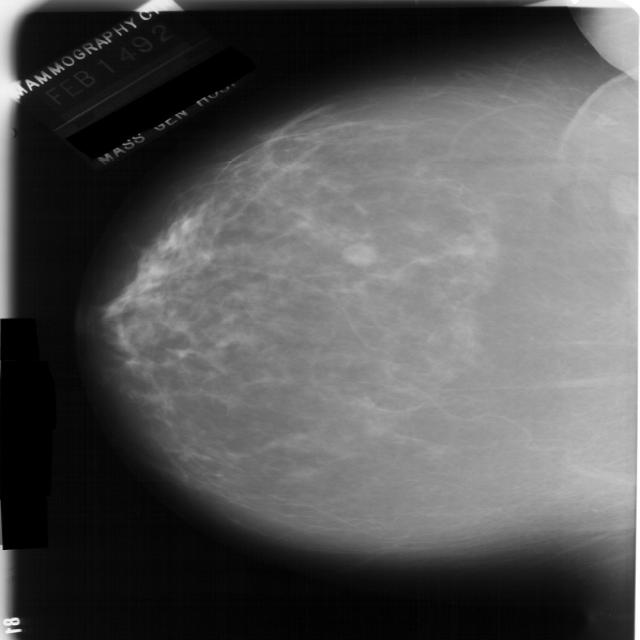tumour: (339, 242, 377, 266)
